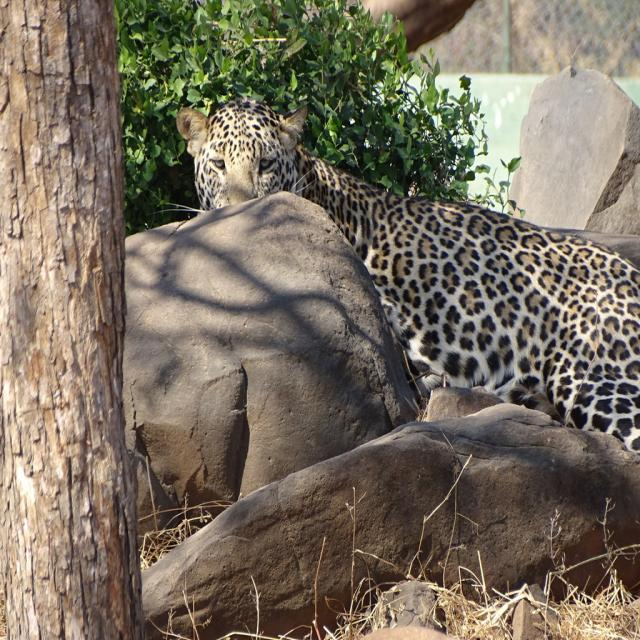Leopard: (177, 104, 640, 454)
